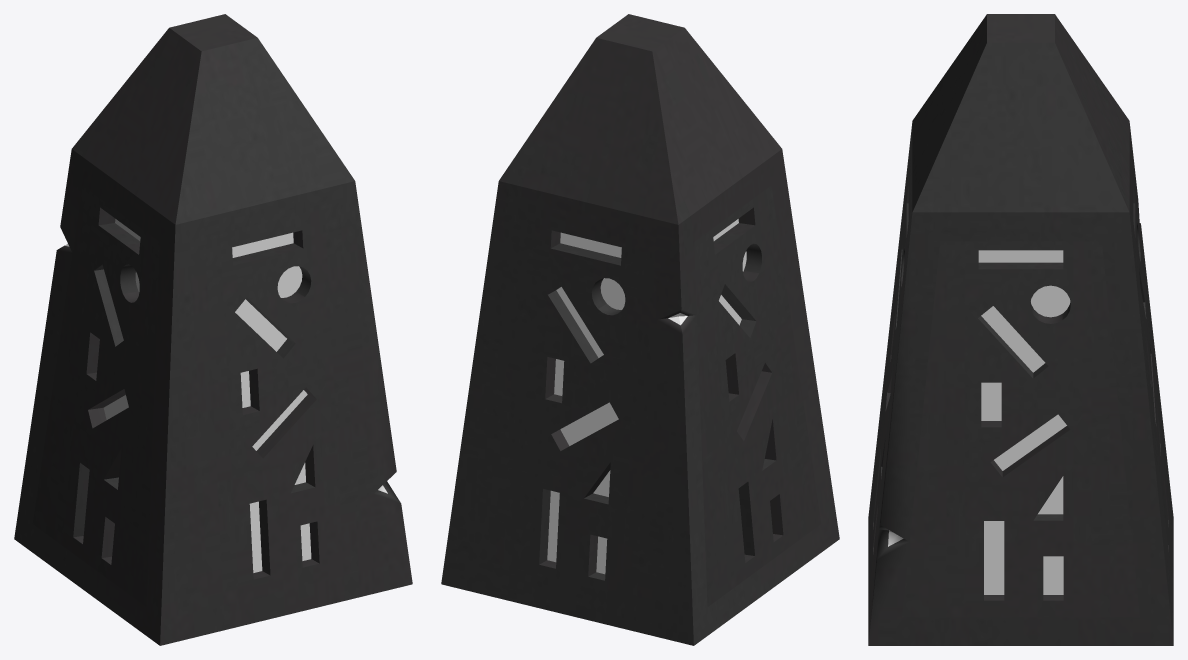
File: ficha2imprimir.fbx
3 renders of one model, left to right at view 1: azimuth 30°, elevation 25°; view 2: azimuth 150°, elevation 25°; view 3: azimuth 270°, elevation 25°, orthographic. The views are drawn at different scales.
Visible parts, largest first — view 1: pCube46; view 2: pCube46; view 3: pCube46.
Part boxes in pixels (x1,y1,x2,y2): pCube46: [14, 14, 412, 645]; pCube46: [441, 14, 839, 645]; pCube46: [868, 14, 1173, 645].
Bounding box in the file's own units: 3 × 6 × 3.
2 materials, 1 textured.
